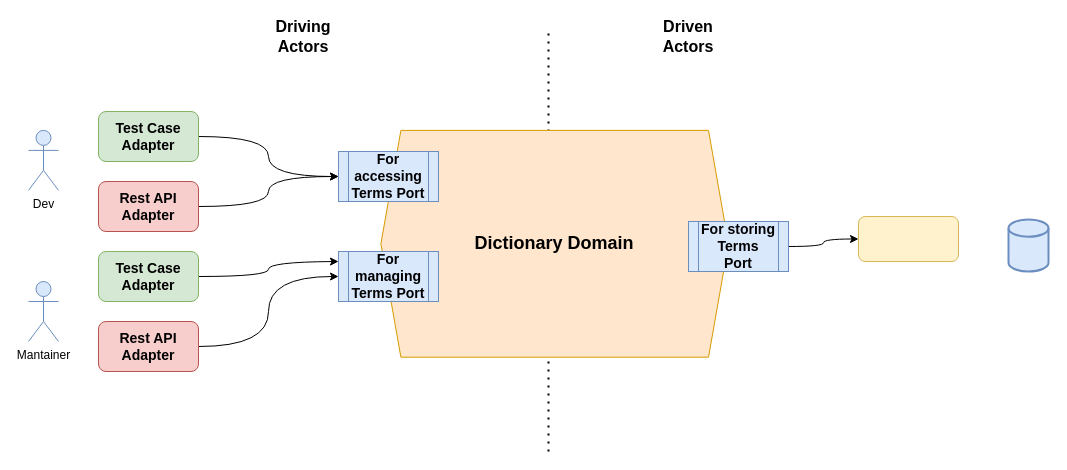
Some shapes in this 1067 by 470 pixel diagram are drawn without their labels. The shapes that lost their labels are listed below. From the top down, each one's centre as x and y in pixels, then its label:
[908,239]: Repository Adapter
[1028,245]: DB
